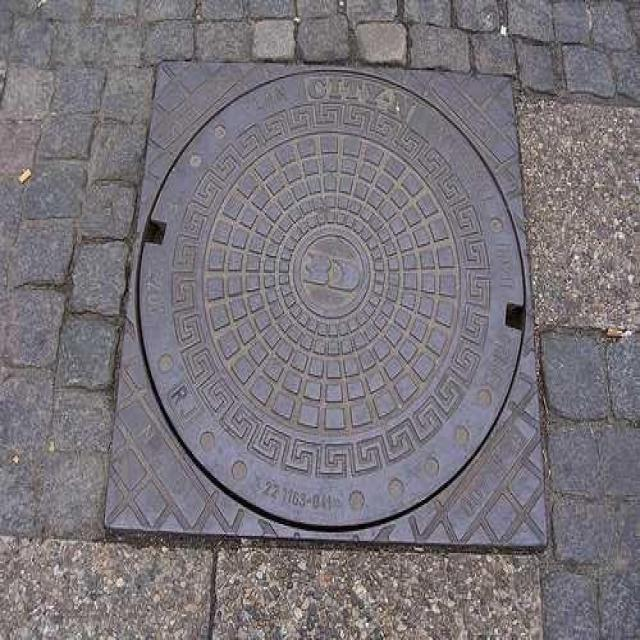manhole: (105, 60, 545, 546)
